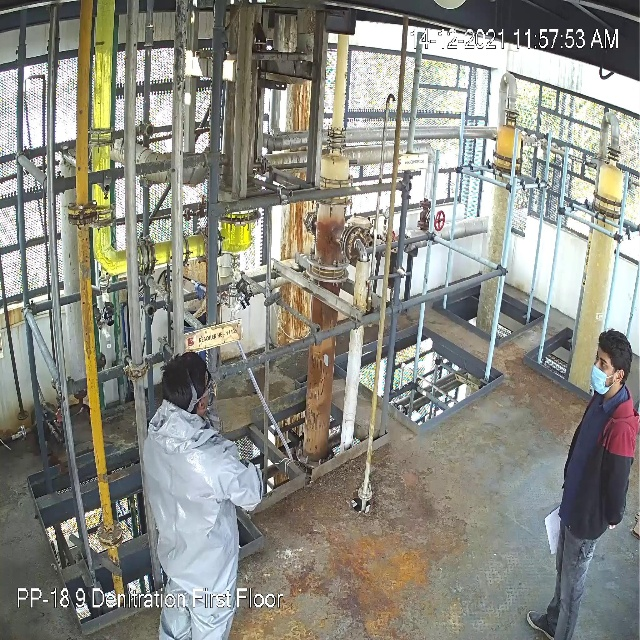Sin_gafas: (594, 352, 612, 375)
